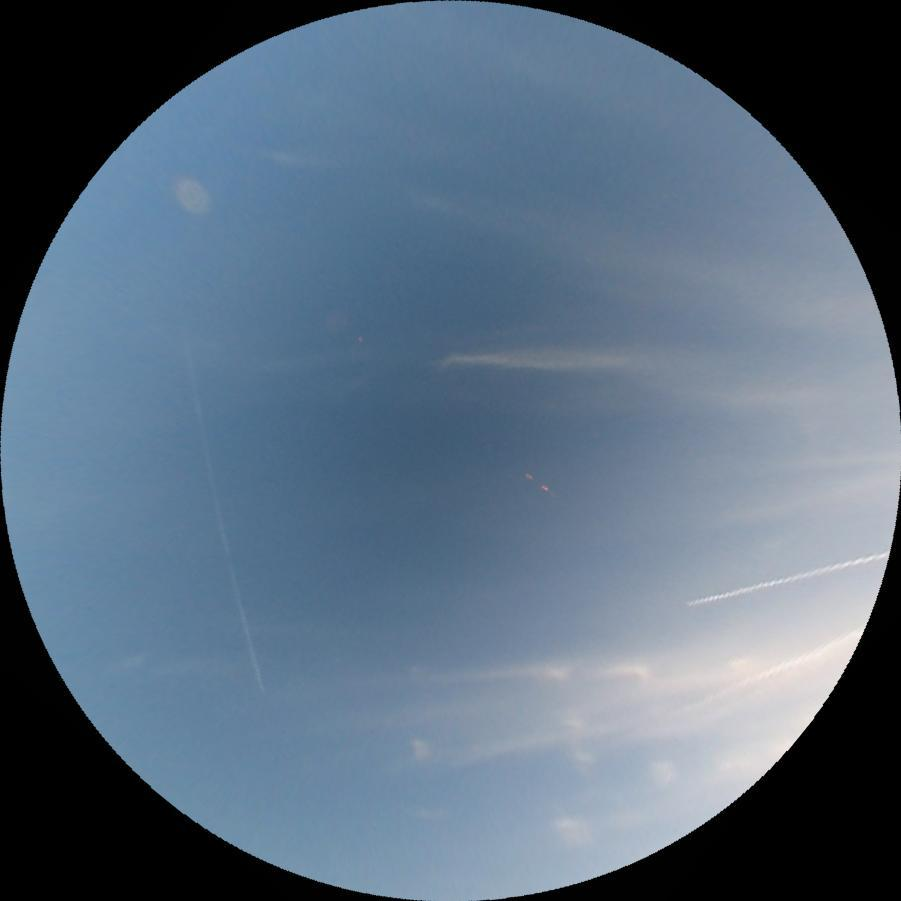contrail young: (185, 379, 265, 693), (685, 547, 891, 610)
